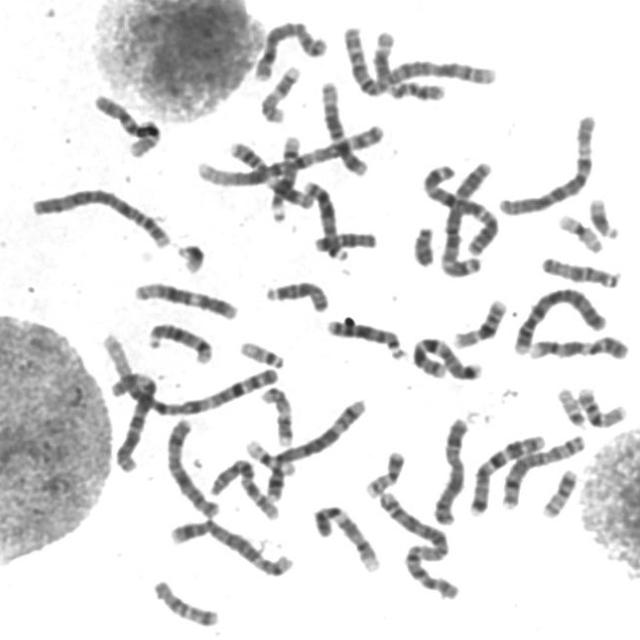A1: (99, 336, 281, 418), (191, 116, 388, 188)
A2: (337, 19, 499, 98), (374, 485, 462, 602)
A3: (424, 155, 500, 266), (435, 153, 496, 280)
B4: (26, 180, 176, 250), (509, 280, 610, 357)
B5: (261, 391, 371, 501), (165, 512, 298, 579)
C10: (88, 87, 166, 160), (206, 452, 285, 522)
C11: (224, 136, 319, 210), (369, 23, 450, 102)
C12: (316, 73, 373, 178), (129, 274, 242, 322)
C6: (493, 106, 601, 216), (105, 372, 168, 477)
C7: (464, 427, 550, 516), (407, 330, 486, 382)
C8: (497, 430, 590, 510), (249, 13, 331, 82)
C9: (309, 498, 384, 574), (524, 329, 634, 362)
D13: (298, 174, 352, 264), (322, 312, 411, 361)
D14: (264, 129, 306, 223), (142, 316, 216, 365)
D15: (537, 250, 625, 290), (261, 273, 333, 314)
E16: (449, 292, 511, 350), (573, 380, 631, 430)
E17: (256, 58, 304, 124), (258, 379, 298, 448)
E18: (149, 573, 222, 628), (310, 224, 381, 254)
F19: (240, 432, 300, 475), (554, 208, 607, 254)
F20: (360, 444, 409, 498), (538, 462, 580, 520)
G21: (585, 191, 624, 240), (173, 235, 209, 275)
G22: (236, 334, 288, 370), (553, 382, 589, 428)
X: (161, 412, 224, 520), (429, 410, 473, 527)
Y: (408, 220, 438, 268)
